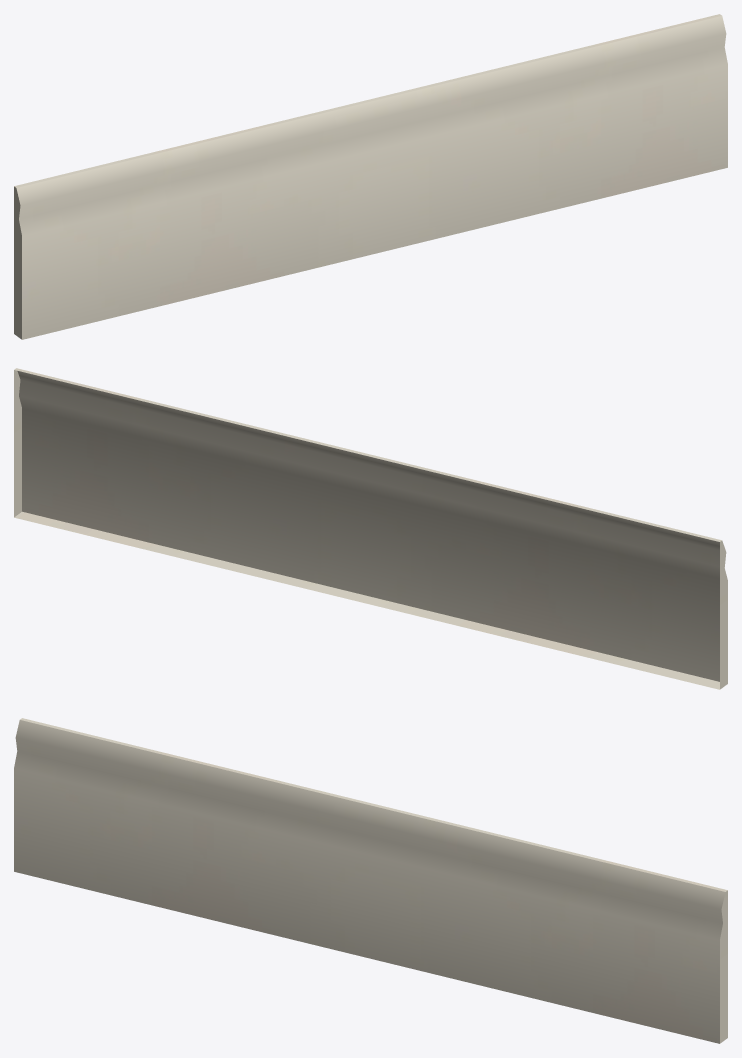
File: rodape-1m.glb
3 views of the same model, one above another, from view 1: azimuth 30°, elevation 25°; view 2: azimuth 150°, elevation 25°; view 3: azimuth 330°, elevation 25° (orthographic).
Bounding box in the file's own units: 1 × 0.2 × 0.02.
Materials: 1 (1 with a texture image).
